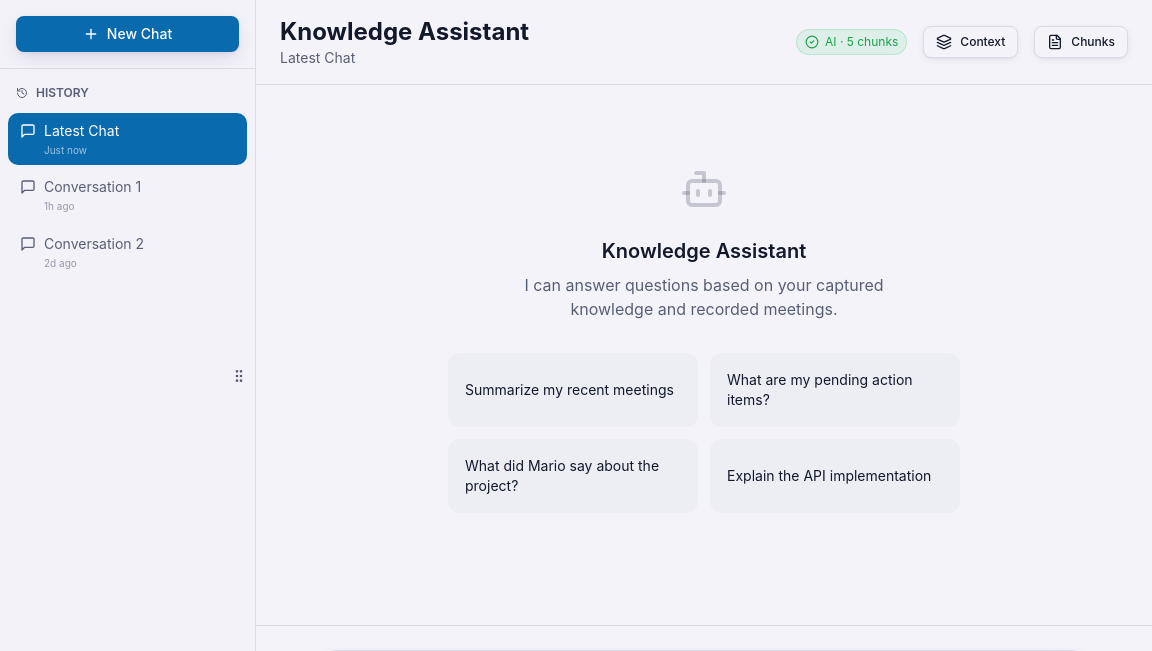
Chat Component › chunk viewer paging › pages forward and back by one page at a time
Check: the text "HISTORY" is shown, box [16,85,89,100]
Click the button "Chunks" at (1081, 42), box [1034,26,1128,58]
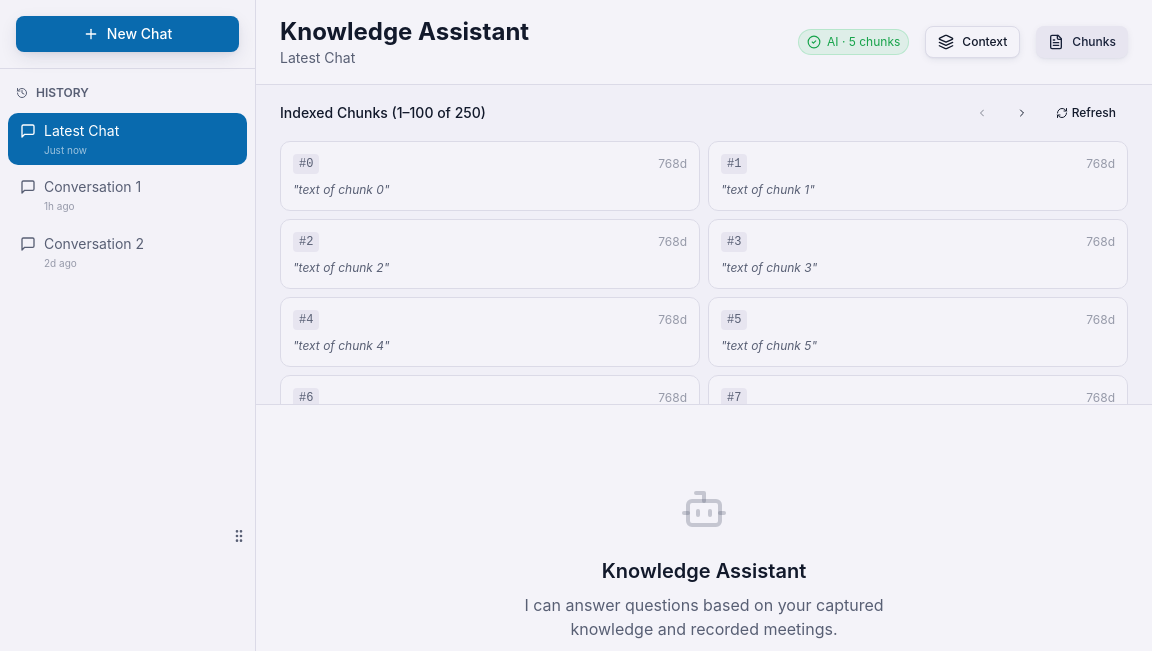
Check: the heading "Indexed Chunks (1–100 of 250)" is shown, box [280,103,486,123]
Click the button named "Next page of chunks" at (1022, 113), box [1004,97,1040,129]
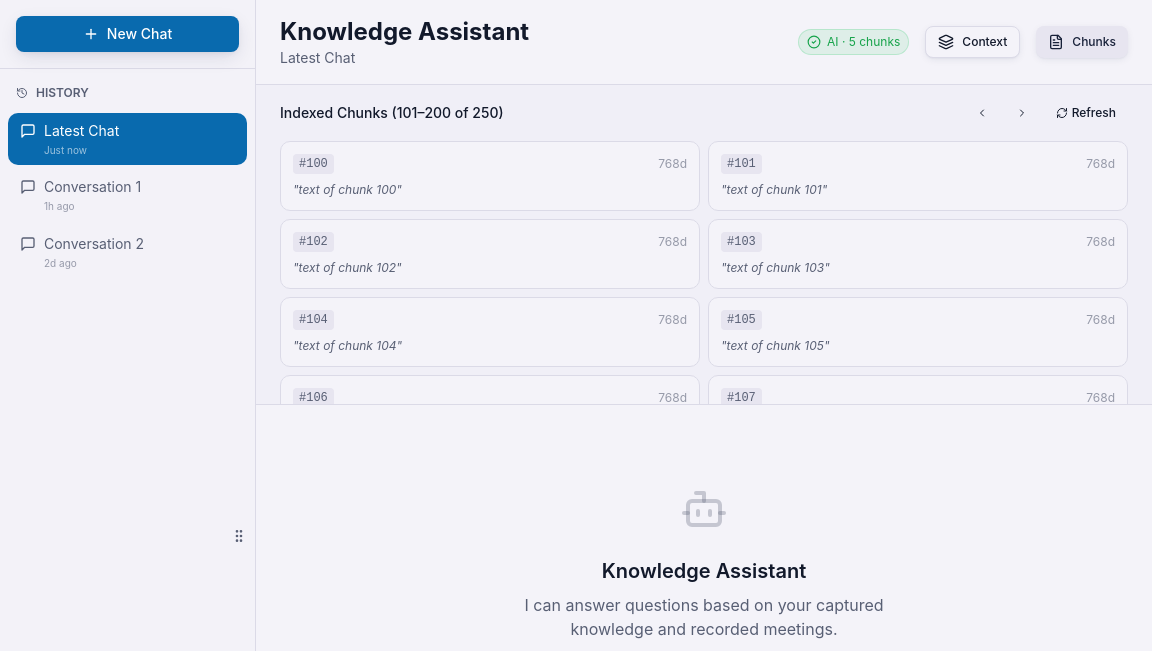
Check: the heading "Indexed Chunks (101–200 of 250)" is shown, box [280,103,504,123]
Check: the text "\"text of chunk 100\"" is shown, box [293,182,402,197]
Click the button named "Previous page of chunks" at (982, 113), box [964,97,1000,129]
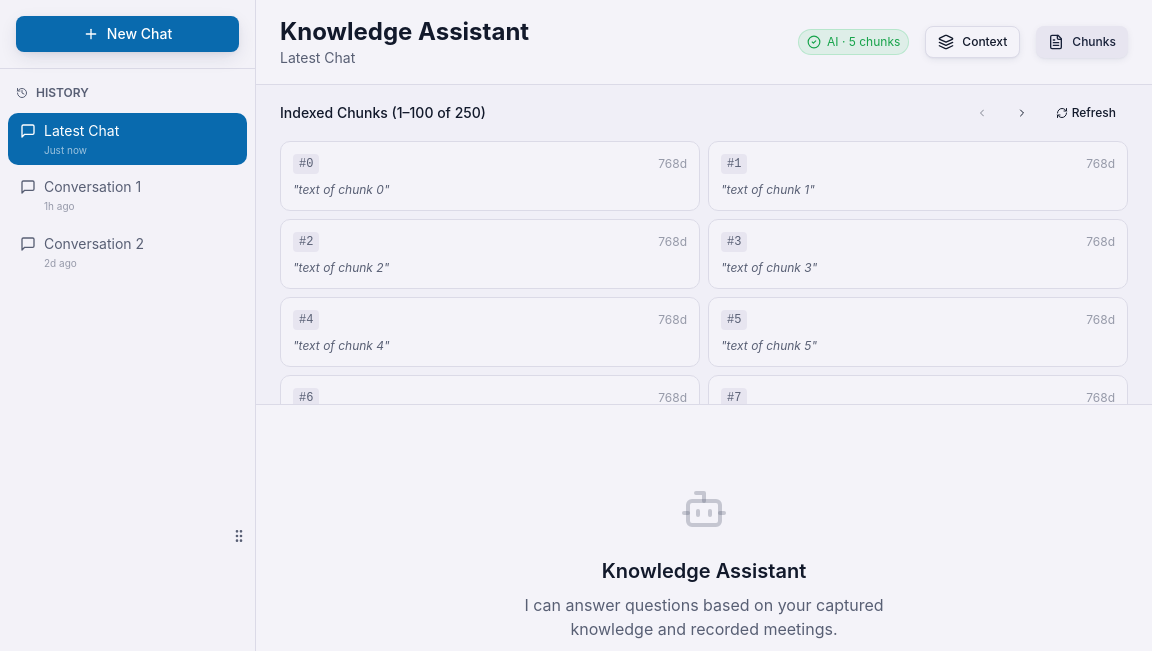
Check: the heading "Indexed Chunks (1–100 of 250)" is shown, box [280,103,486,123]
